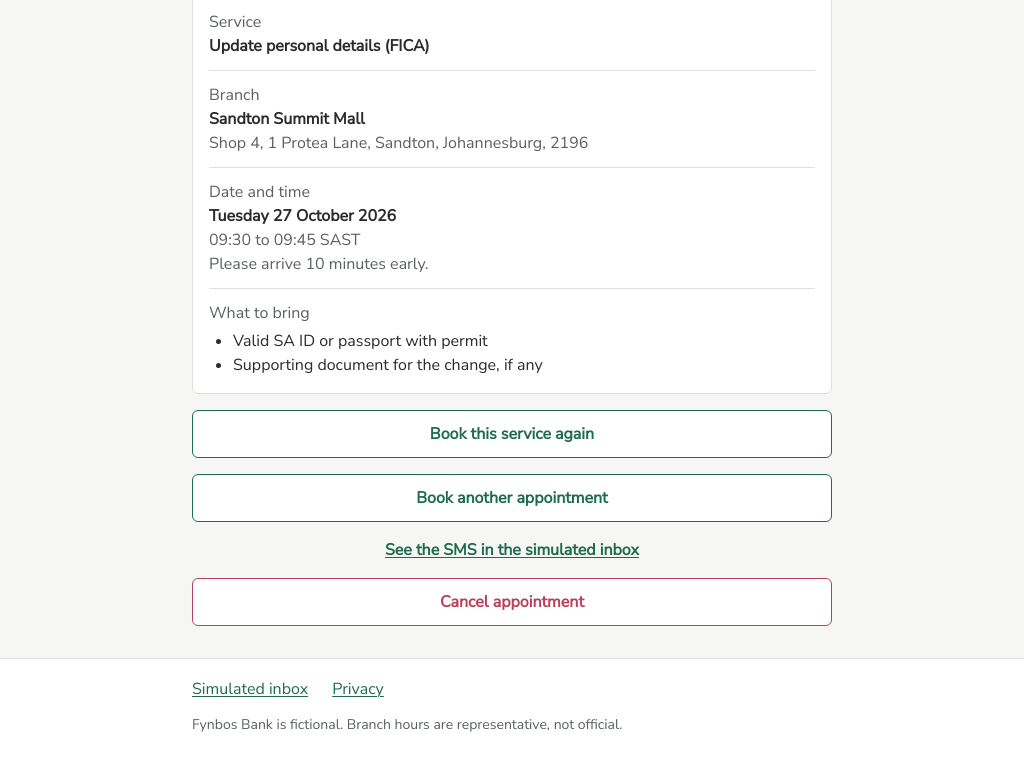
Scenario: ConfirmationPage, cancelling › cancels with the remembered digits, then says the details are deleted and the SMS is on its way
(page scrolled)
Click the button "Cancel appointment".
click(512, 602)  # box [192, 578, 832, 626]
(page scrolled)
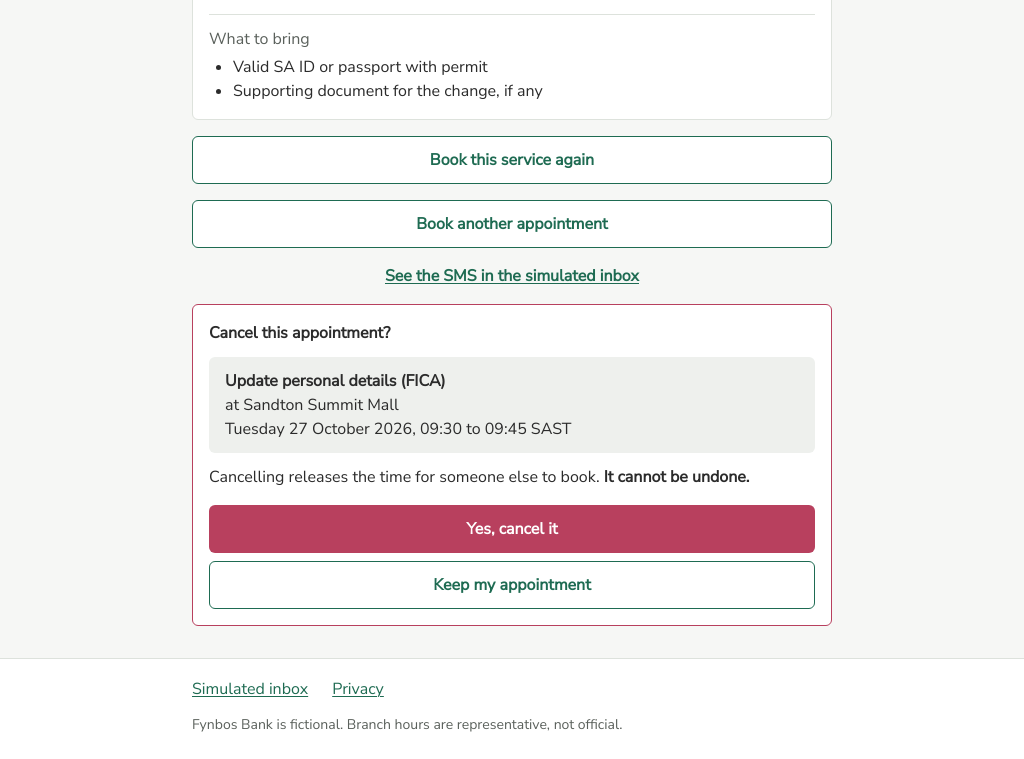
Click the button "Yes, cancel it".
click(512, 529)  # box [209, 505, 815, 553]
(page scrolled)
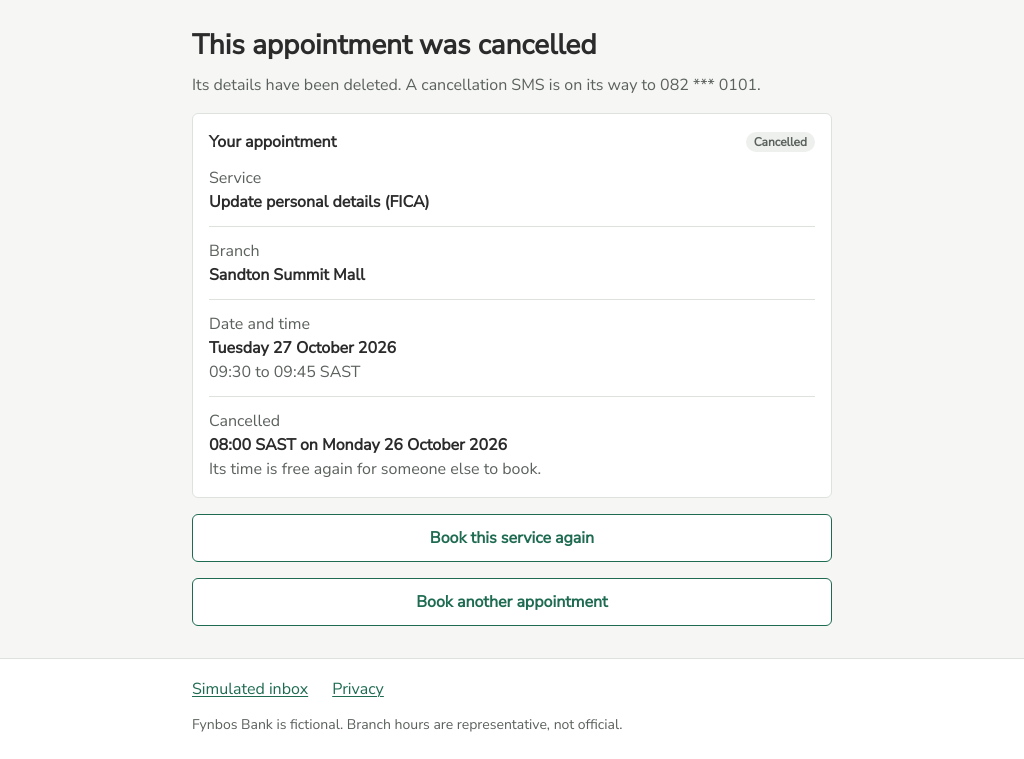
Result: the text "Its details have been deleted. A cancellation SMS is on its way to 082 *** 0101." is shown at [192, 73, 832, 97]
Result: the element "Your appointment" shows "Cancelled" at [754, 134, 807, 150]
Result: the element "Your appointment" shows "Update personal details (FICA)" at [209, 191, 430, 213]
